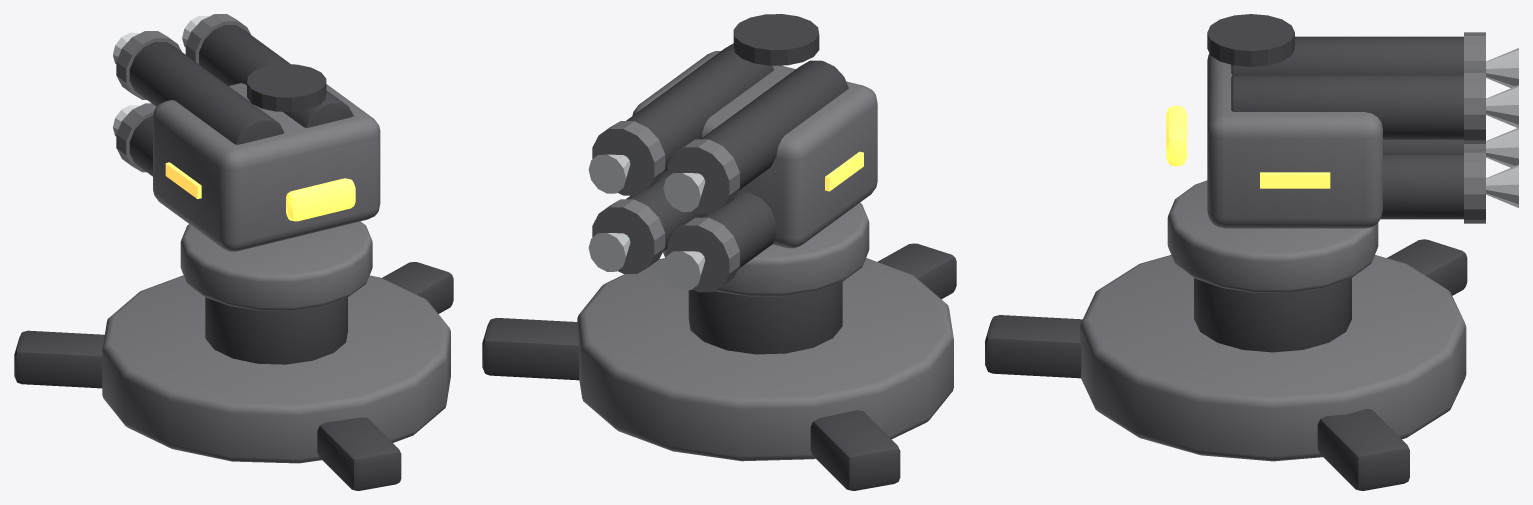
Rendered from turret_rocket.glb.
The picture shows the model from 3 angles, left to right: view 1: azimuth 30°, elevation 25°; view 2: azimuth 150°, elevation 25°; view 3: azimuth 270°, elevation 25°; orthographic projection. The views are drawn at different scales.
Visible parts, largest first — view 1: Rkt_Base, Turret_Pitch.002, Turret_Yaw.002, Rkt_Ped, Rkt_Tube0, Rkt_Foot1, Rkt_Foot2, Rkt_Tube1, Rkt_Dish, Rkt_Vent, Rkt_Foot0, Rkt_Lip0 (+4 smaller); view 2: Rkt_Base, Turret_Pitch.002, Rkt_Ped, Rkt_Tube0, Turret_Yaw.002, Rkt_Tube1, Rkt_Foot0, Rkt_Foot1, Rkt_Dish, Rkt_Lip2, Rkt_Lip1, Rkt_Lip3 (+9 smaller); view 3: Rkt_Base, Turret_Pitch.002, Turret_Yaw.002, Rkt_Tube1, Rkt_Ped, Rkt_Tube0, Rkt_Foot0, Rkt_Foot2, Rkt_Tube3, Rkt_Dish, Rkt_Foot1, Rkt_Lip1 (+9 smaller).
Part boxes in pixels (x1,y1,x2,y2): Rkt_Base: (102,275,450,463); Turret_Pitch.002: (153,83,380,251); Turret_Yaw.002: (180,221,372,310); Rkt_Ped: (205,297,347,364); Rkt_Tube0: (129,42,284,144); Rkt_Foot1: (14,330,104,388); Rkt_Foot2: (317,417,401,490); Rkt_Tube1: (199,25,353,127); Rkt_Dish: (247,64,326,111); Rkt_Vent: (286,178,355,221); Rkt_Foot0: (382,262,453,313); Rkt_Lip0: (116,31,181,99); Rkt_Base: (577,258,953,461); Turret_Pitch.002: (632,51,877,248); Rkt_Ped: (688,282,842,354); Rkt_Tube0: (701,60,848,190); Turret_Yaw.002: (663,203,869,296); Rkt_Tube1: (626,43,773,171); Rkt_Foot0: (482,318,579,380); Rkt_Foot1: (810,410,900,490); Rkt_Dish: (733,14,819,65); Rkt_Lip2: (667,217,739,292); Rkt_Lip1: (592,121,665,195); Rkt_Lip3: (592,199,665,273); Rkt_Base: (1080,255,1466,461); Turret_Pitch.002: (1207,53,1382,228); Turret_Yaw.002: (1167,180,1378,292); Rkt_Tube1: (1231,74,1463,139); Rkt_Ped: (1194,278,1351,352); Rkt_Tube0: (1231,36,1463,74); Rkt_Foot0: (1317,409,1409,490); Rkt_Foot2: (985,315,1082,378); Rkt_Tube3: (1380,153,1463,219); Rkt_Dish: (1207,14,1294,66); Rkt_Foot1: (1387,239,1467,295); Rkt_Lip1: (1464,69,1485,143).
Size of the model in its own units: 1.18 by 0.88 by 1.22.
